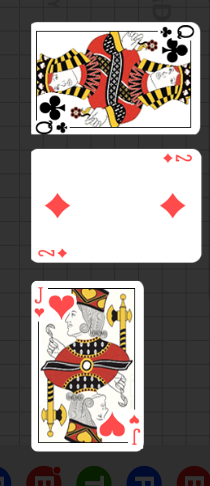2D: (161, 152, 193, 165), (36, 247, 69, 259)
JH: (127, 413, 142, 446)
QC: (31, 89, 78, 133), (152, 22, 198, 66)
